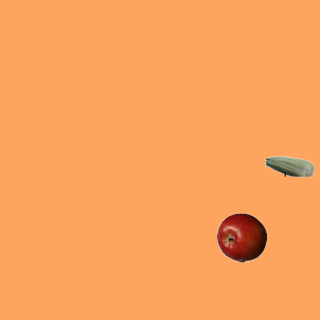Apple Braeburn: (216, 212, 266, 262)
Corn Husk: (264, 141, 314, 191)
